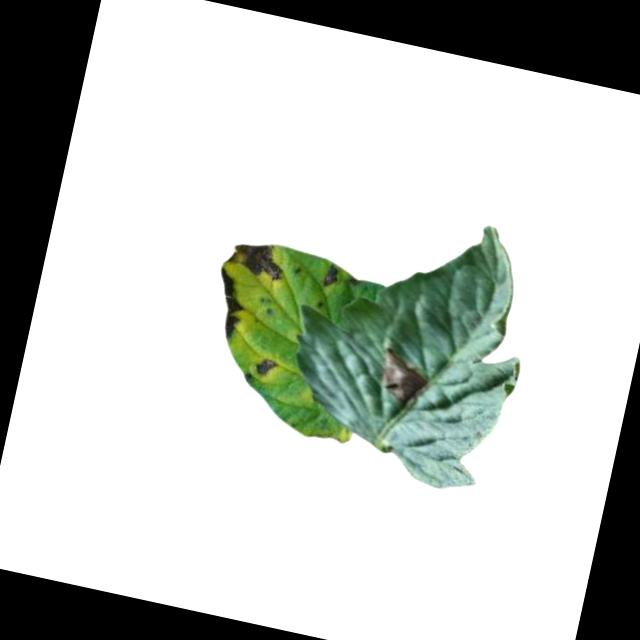Early_blight: (374, 345, 432, 407), (205, 265, 252, 339), (226, 236, 292, 284), (317, 261, 342, 291), (251, 354, 277, 377)
